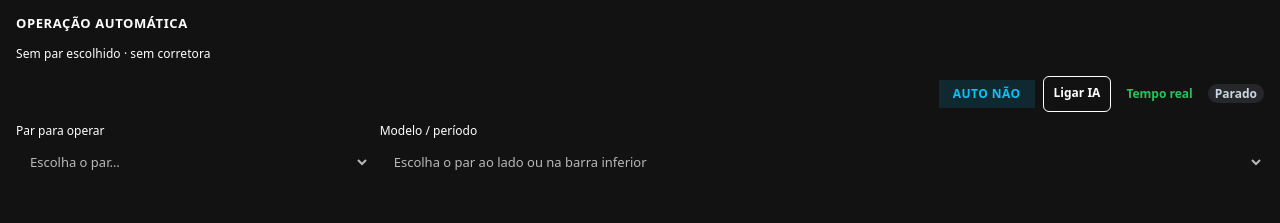
Scenario: sem conta salva: recusa com motivo, nunca MT5 fixo (11/10/2026) › PROVA: o cabecalho diz "sem corretora", e o AUTO recusa nomeando onde ativar
Step 1. Click the switch named "Operação automática" → (987, 94), box [939,80,1035,108]
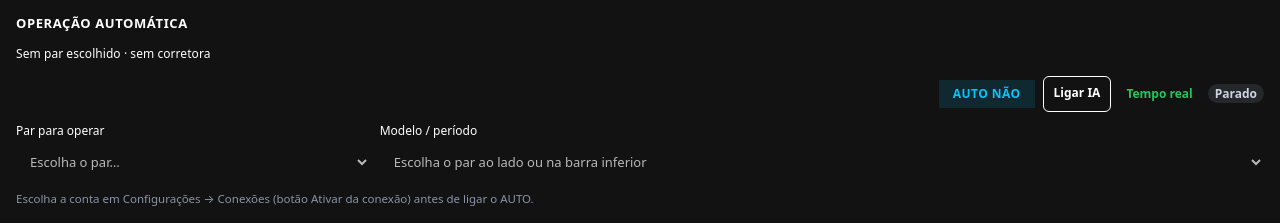
expect the message with class "robo-observacao" shows "Conexões": met, box [16,190,534,206]
expect the message with class "robo-observacao" shows "Ativar": met, box [16,190,534,206]
